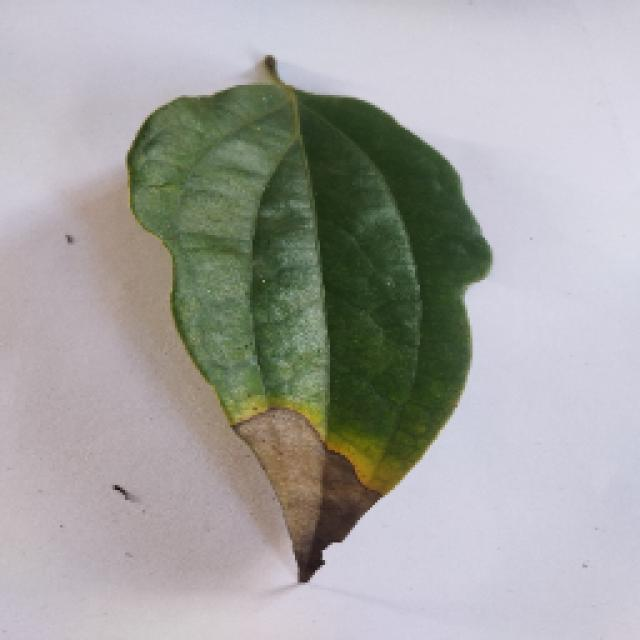footrot: (120, 58, 492, 580)
